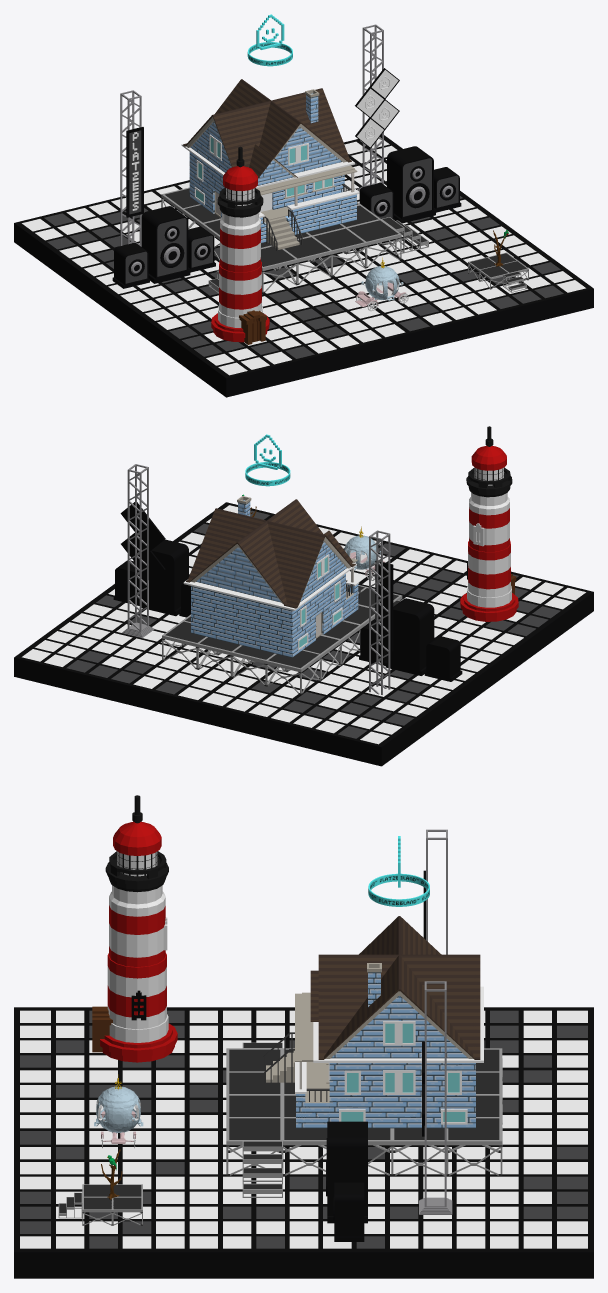
The picture shows the model from 3 angles, top to bottom: view 1: azimuth 30°, elevation 25°; view 2: azimuth 150°, elevation 25°; view 3: azimuth 270°, elevation 25°; orthographic projection. The views are drawn at different scales.
Parts seen in each view (by area): view 1: Cube.008, Cube.547, OBJRANDOM_LIGHTHOUSE, VEHICLES_FANTASY_CARRIAGE, TYPE_PREMIUM; view 2: Cube.008, Cube.547, OBJRANDOM_LIGHTHOUSE, TYPE_PREMIUM, VEHICLES_FANTASY_CARRIAGE; view 3: Cube.008, Cube.547, OBJRANDOM_LIGHTHOUSE, VEHICLES_FANTASY_CARRIAGE, TYPE_PREMIUM.
Boxes of the visible parts, x1=… form: Cube.008: x1=14, y1=24, x2=593, y2=397; Cube.547: x1=181, y1=79, x2=359, y2=250; OBJRANDOM_LIGHTHOUSE: x1=211, y1=146, x2=269, y2=344; VEHICLES_FANTASY_CARRIAGE: x1=355, y1=257, x2=408, y2=311; TYPE_PREMIUM: x1=247, y1=14, x2=292, y2=66; Cube.008: x1=14, y1=464, x2=593, y2=766; Cube.547: x1=183, y1=496, x2=360, y2=657; OBJRANDOM_LIGHTHOUSE: x1=460, y1=426, x2=518, y2=621; TYPE_PREMIUM: x1=245, y1=434, x2=290, y2=486; VEHICLES_FANTASY_CARRIAGE: x1=344, y1=526, x2=384, y2=580; Cube.008: x1=14, y1=829, x2=593, y2=1278; Cube.547: x1=263, y1=916, x2=483, y2=1128; OBJRANDOM_LIGHTHOUSE: x1=92, y1=795, x2=177, y2=1062; VEHICLES_FANTASY_CARRIAGE: x1=94, y1=1074, x2=143, y2=1148; TYPE_PREMIUM: x1=368, y1=836, x2=429, y2=906.
Bounding box in the file's own units: 4000 × 2528 × 4000.
Materials: 41 (3 with a texture image).
